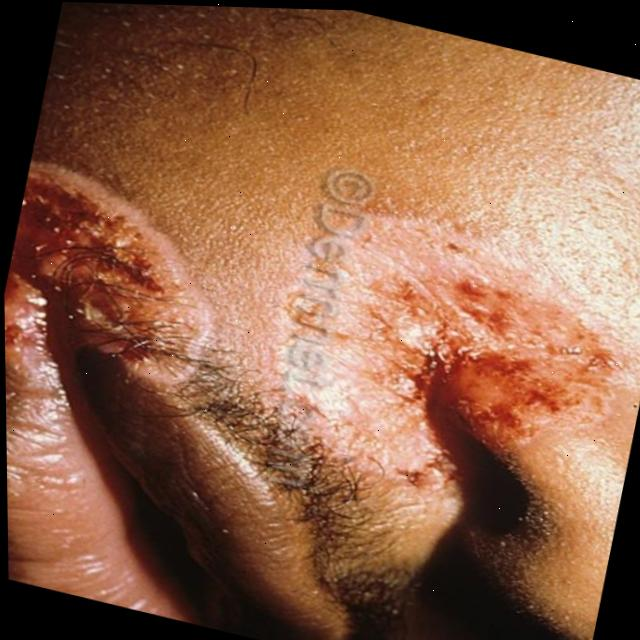Shingles: (277, 200, 639, 497), (2, 150, 236, 405)
